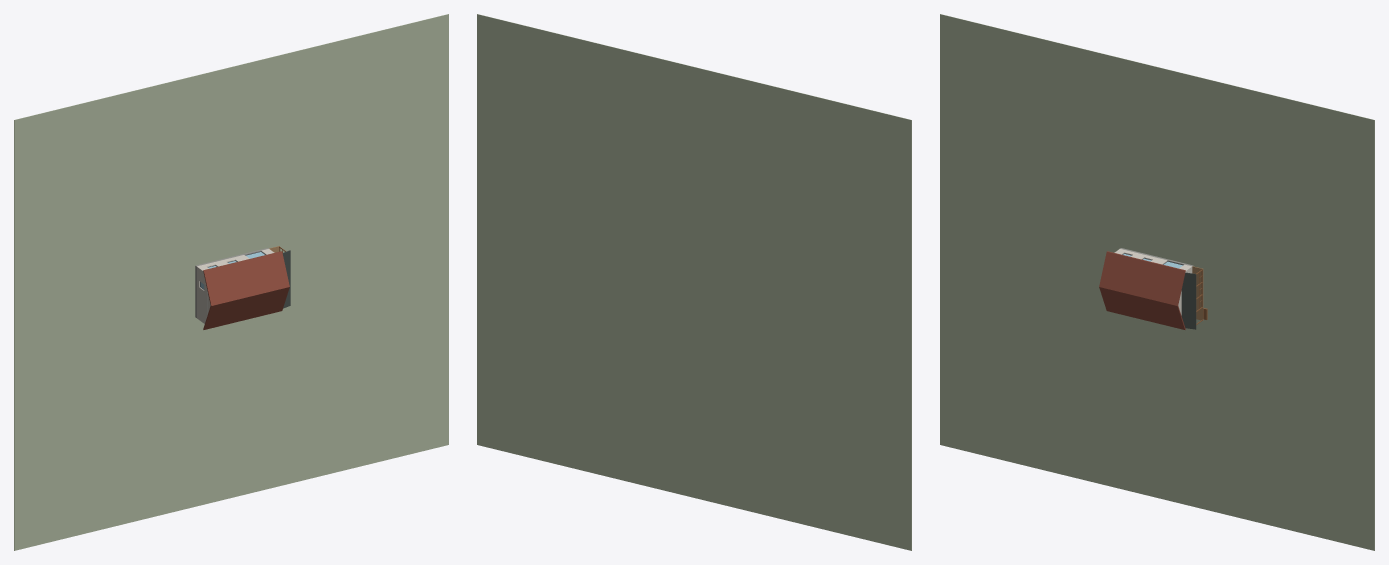
The model's file is house-shell.obj.
3 views of the same model, side by side, from view 1: azimuth 30°, elevation 25°; view 2: azimuth 150°, elevation 25°; view 3: azimuth 330°, elevation 25° (orthographic).
Parts seen in each view (by area): view 1: nikolaevo-shell; view 2: nikolaevo-shell; view 3: nikolaevo-shell.
Boxes of the visible parts, x1,y1,x2,y2 form: nikolaevo-shell: (14,14,448,550); nikolaevo-shell: (477,14,911,550); nikolaevo-shell: (940,14,1374,550).
Bounding box in the file's own units: 72 × 68.2 × 5.54.
